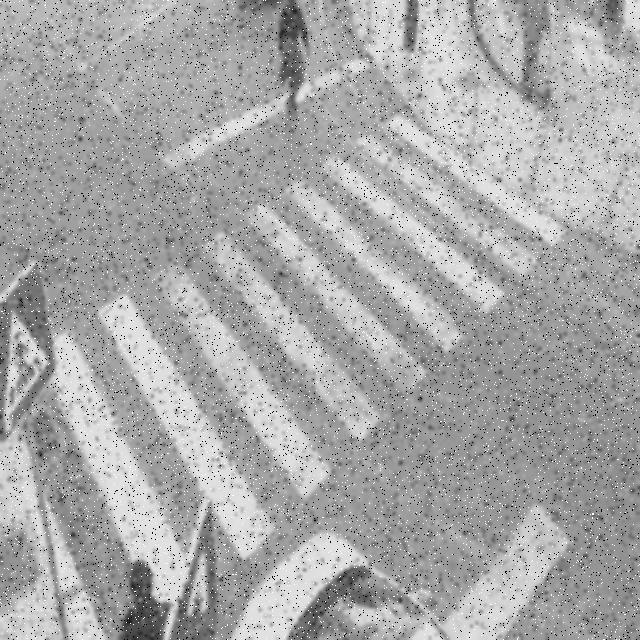Pedestrian crosswalk: (23, 108, 572, 639)
